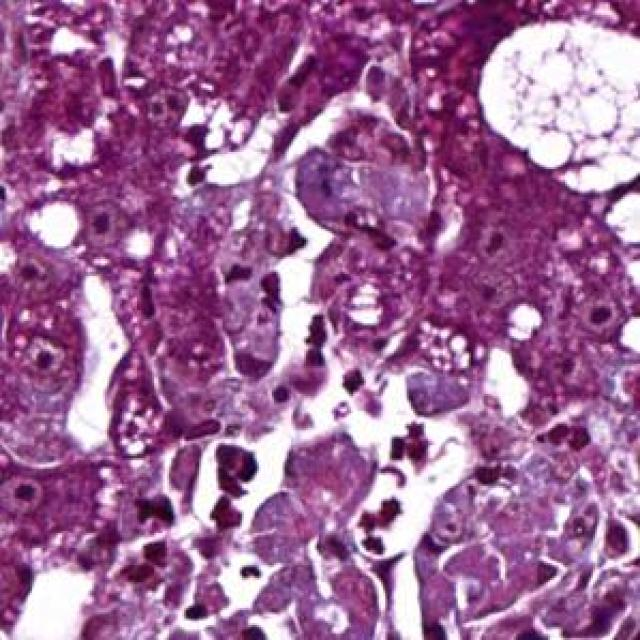ballooning: (473, 13, 640, 201)
